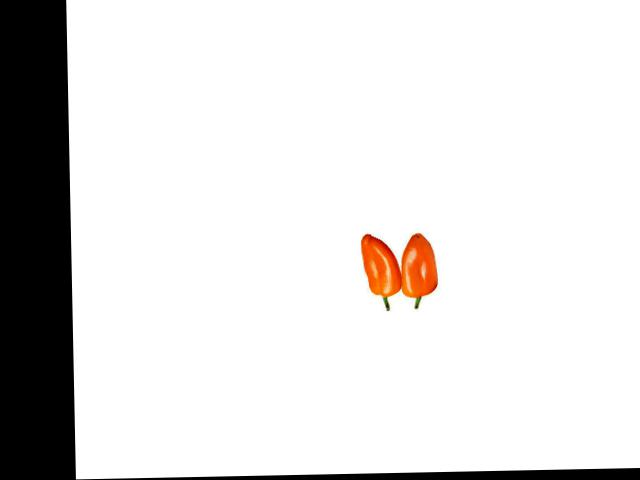bell_pepper: (398, 217, 446, 310)
